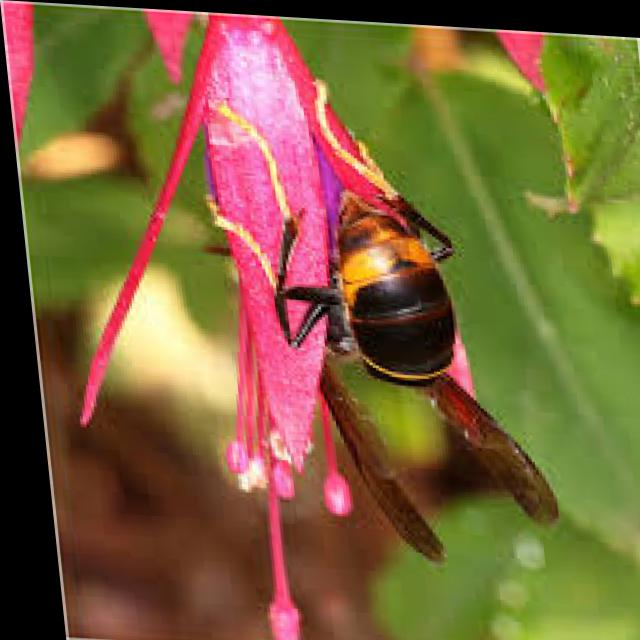Vespa Velutina: (184, 60, 558, 558)
